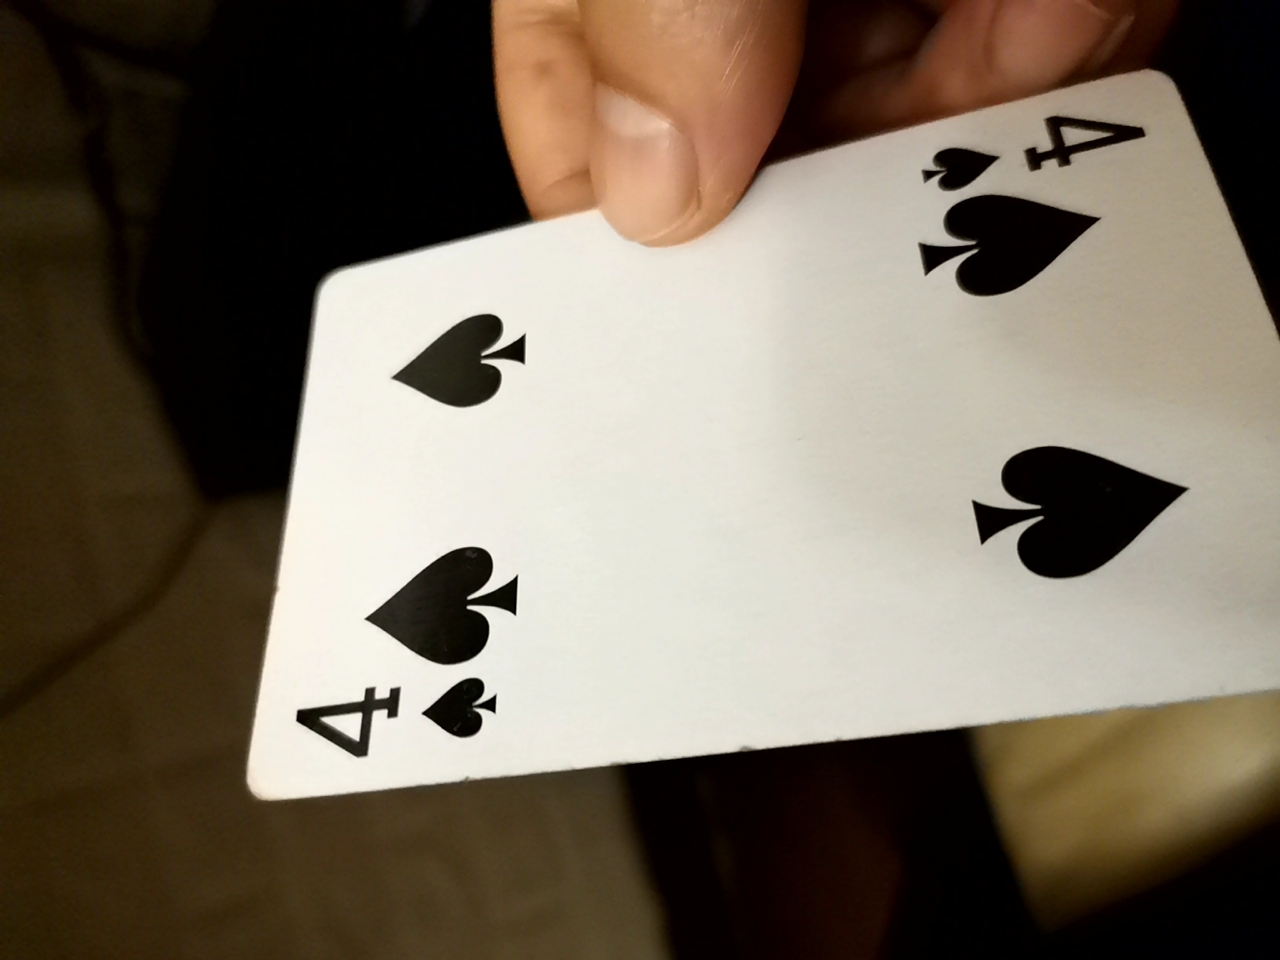ht 4: (210, 80, 1270, 817)
